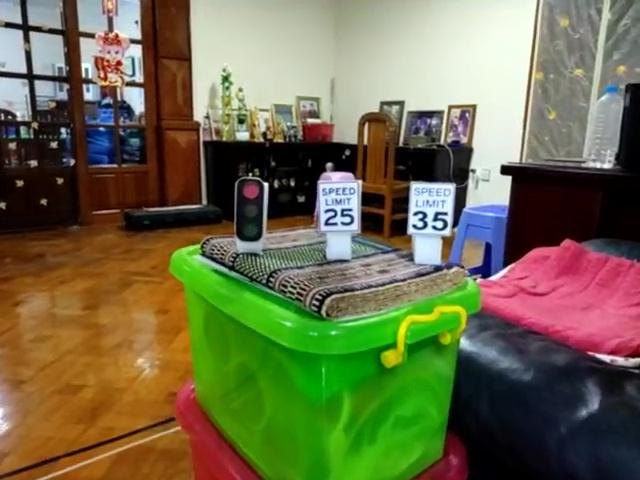Red Traffic Light: (232, 176, 267, 243)
Speed Limit 25: (318, 181, 364, 231)
Speed Limit 35: (406, 178, 455, 237)
